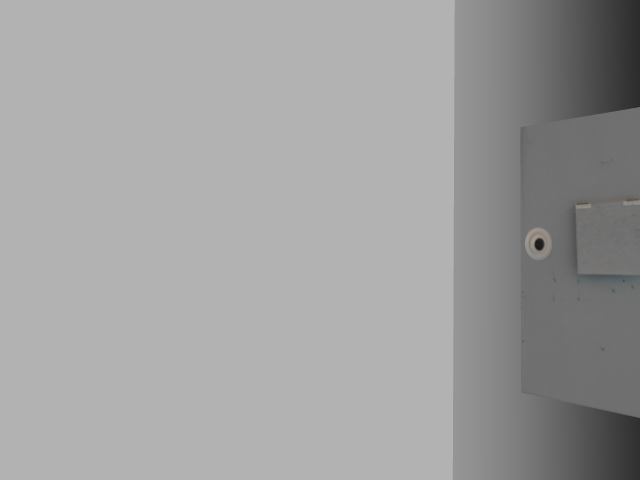facade: (524, 197, 639, 277)
